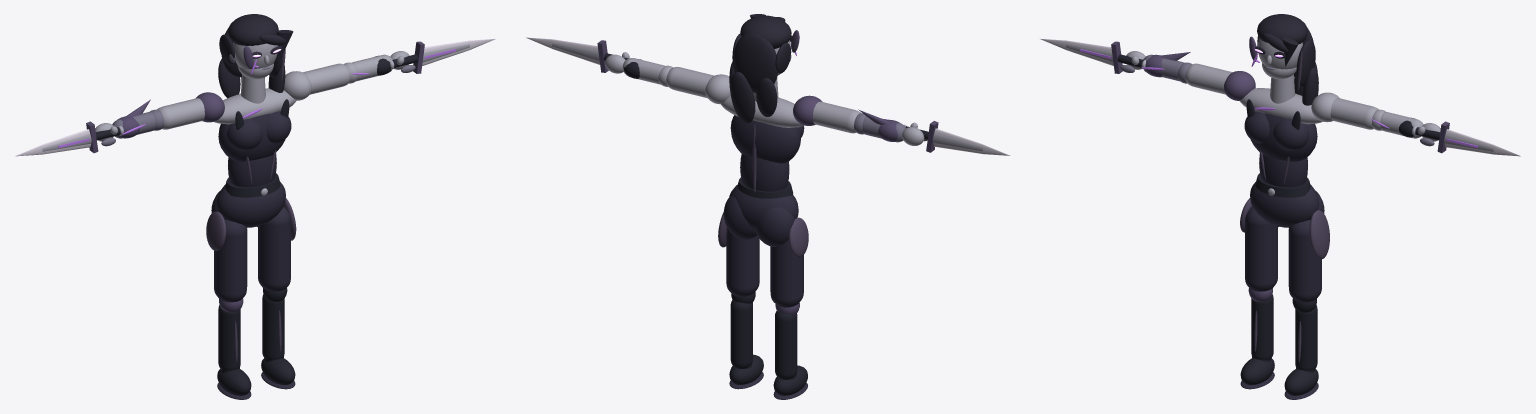
The model's file is FSA_ENEMY_C001_Phantom.glb.
3 views of the same model, side by side, from view 1: azimuth 30°, elevation 25°; view 2: azimuth 150°, elevation 25°; view 3: azimuth 330°, elevation 25° (orthographic).
Visible parts, largest first — view 1: ThighL, ThighR, Pelvis, Clavicle, CalfR, CalfL, HairCrown, Waist, Ribcage, UpperArmR, UpperArmL, ChestR (+13 smaller); view 2: Ribcage, ThighL, ThighR, HairBack, CalfL, CalfR, Waist, Pelvis, GluteR, HairCrown, UpperArmR, UpperArmL (+13 smaller); view 3: ThighR, ThighL, Pelvis, Clavicle, CalfL, CalfR, Waist, Ribcage, HairCrown, UpperArmL, UpperArmR, ChestL (+13 smaller).
Boxes of the visible parts, x1,y1,x2,y2 form: ThighL: [258, 206, 290, 291]; ThighR: [214, 219, 247, 302]; Pelvis: [216, 182, 285, 227]; Clavicle: [214, 88, 296, 124]; CalfR: [218, 305, 240, 370]; CalfL: [262, 294, 284, 359]; HairCrown: [228, 14, 278, 45]; Waist: [228, 154, 276, 187]; Ribcage: [218, 113, 285, 161]; UpperArmR: [157, 98, 204, 129]; UpperArmL: [303, 63, 350, 94]; ChestR: [227, 119, 262, 150]; Ribcage: [730, 115, 800, 163]; ThighL: [726, 227, 759, 296]; ThighR: [770, 240, 803, 307]; HairBack: [733, 33, 777, 92]; CalfL: [730, 300, 752, 368]; CalfR: [775, 311, 797, 379]; Waist: [740, 154, 789, 191]; Pelvis: [729, 185, 798, 230]; GluteR: [755, 207, 794, 246]; HairCrown: [740, 15, 791, 48]; UpperArmR: [812, 101, 860, 133]; UpperArmL: [666, 67, 713, 98]; ThighR: [1245, 206, 1277, 291]; ThighL: [1288, 220, 1321, 302]; Pelvis: [1250, 182, 1319, 227]; Clavicle: [1240, 88, 1322, 124]; CalfL: [1295, 305, 1317, 370]; CalfR: [1251, 294, 1273, 359]; Waist: [1259, 154, 1307, 187]; Ribcage: [1250, 113, 1317, 161]; HairCrown: [1257, 14, 1307, 44]; UpperArmL: [1330, 98, 1378, 129]; UpperArmR: [1185, 63, 1232, 94]; ChestL: [1273, 119, 1308, 150].
Size of the model in its own units: 2.72 by 1.98 by 0.3068.
